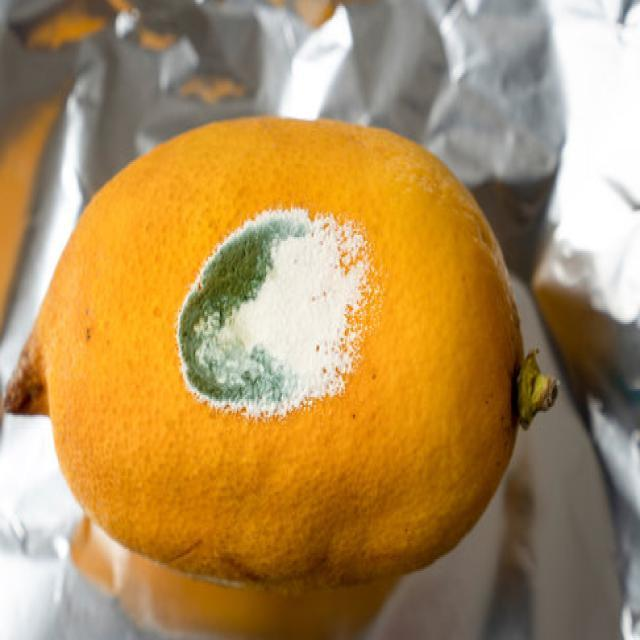Rotten: (2, 117, 560, 596)
